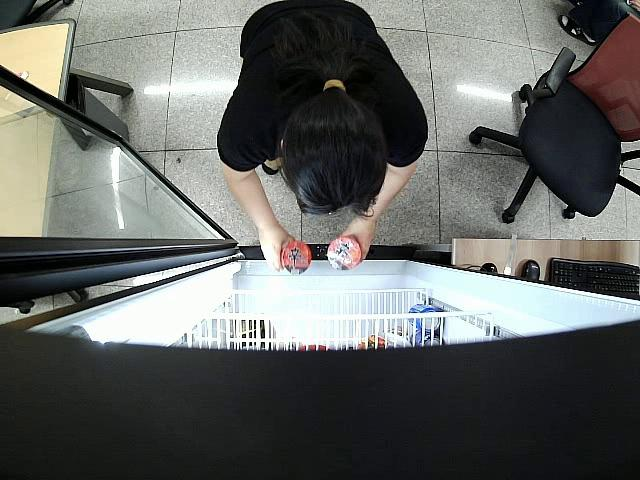00_hand: (259, 227, 298, 272), (341, 217, 374, 263)
02_shinRamen_S: (325, 235, 362, 271), (279, 241, 311, 275)
